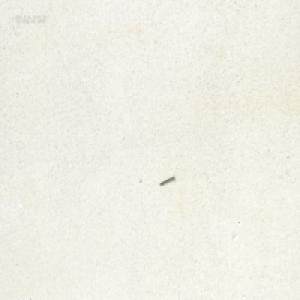Bolt: (159, 173, 174, 185)
